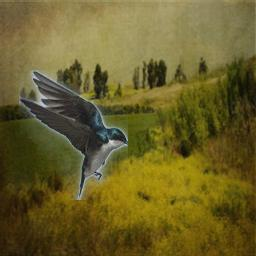Swallow: (19, 70, 128, 200)
